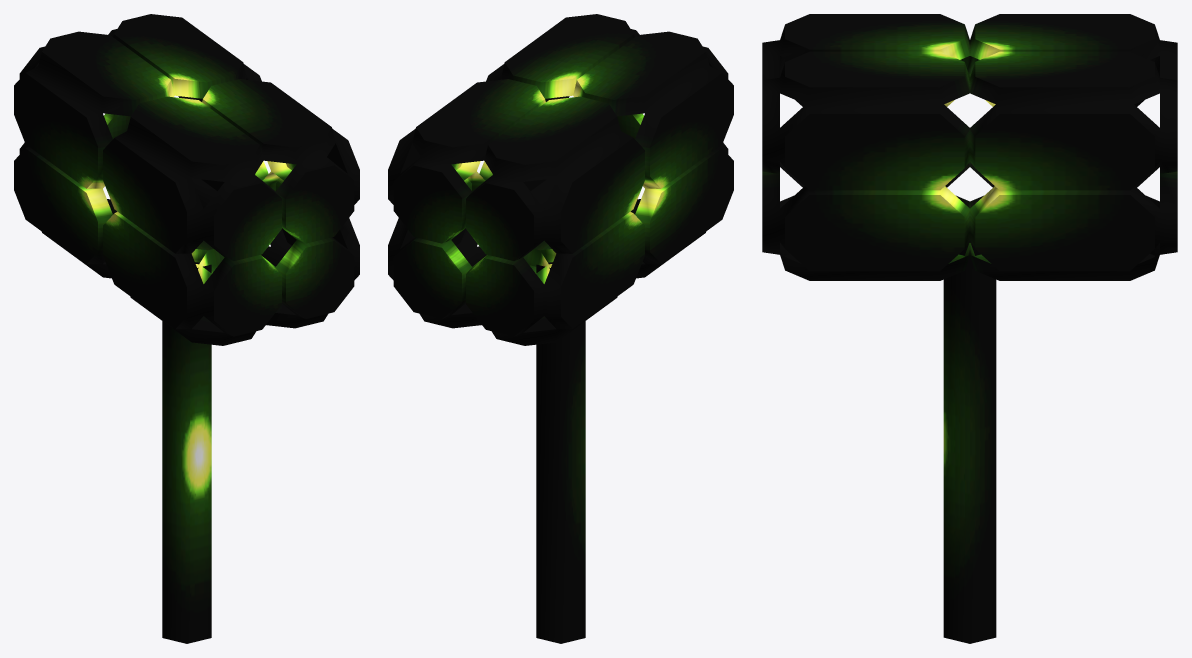
File: 0252_chuiz_01.glb
3 views of the same model, side by side, from view 1: azimuth 30°, elevation 25°; view 2: azimuth 150°, elevation 25°; view 3: azimuth 270°, elevation 25° (orthographic). The views are drawn at different scales.
Bounding box in the file's own units: 0.7342 × 2.2 × 1.43.
Materials: 1 (1 with a texture image).
